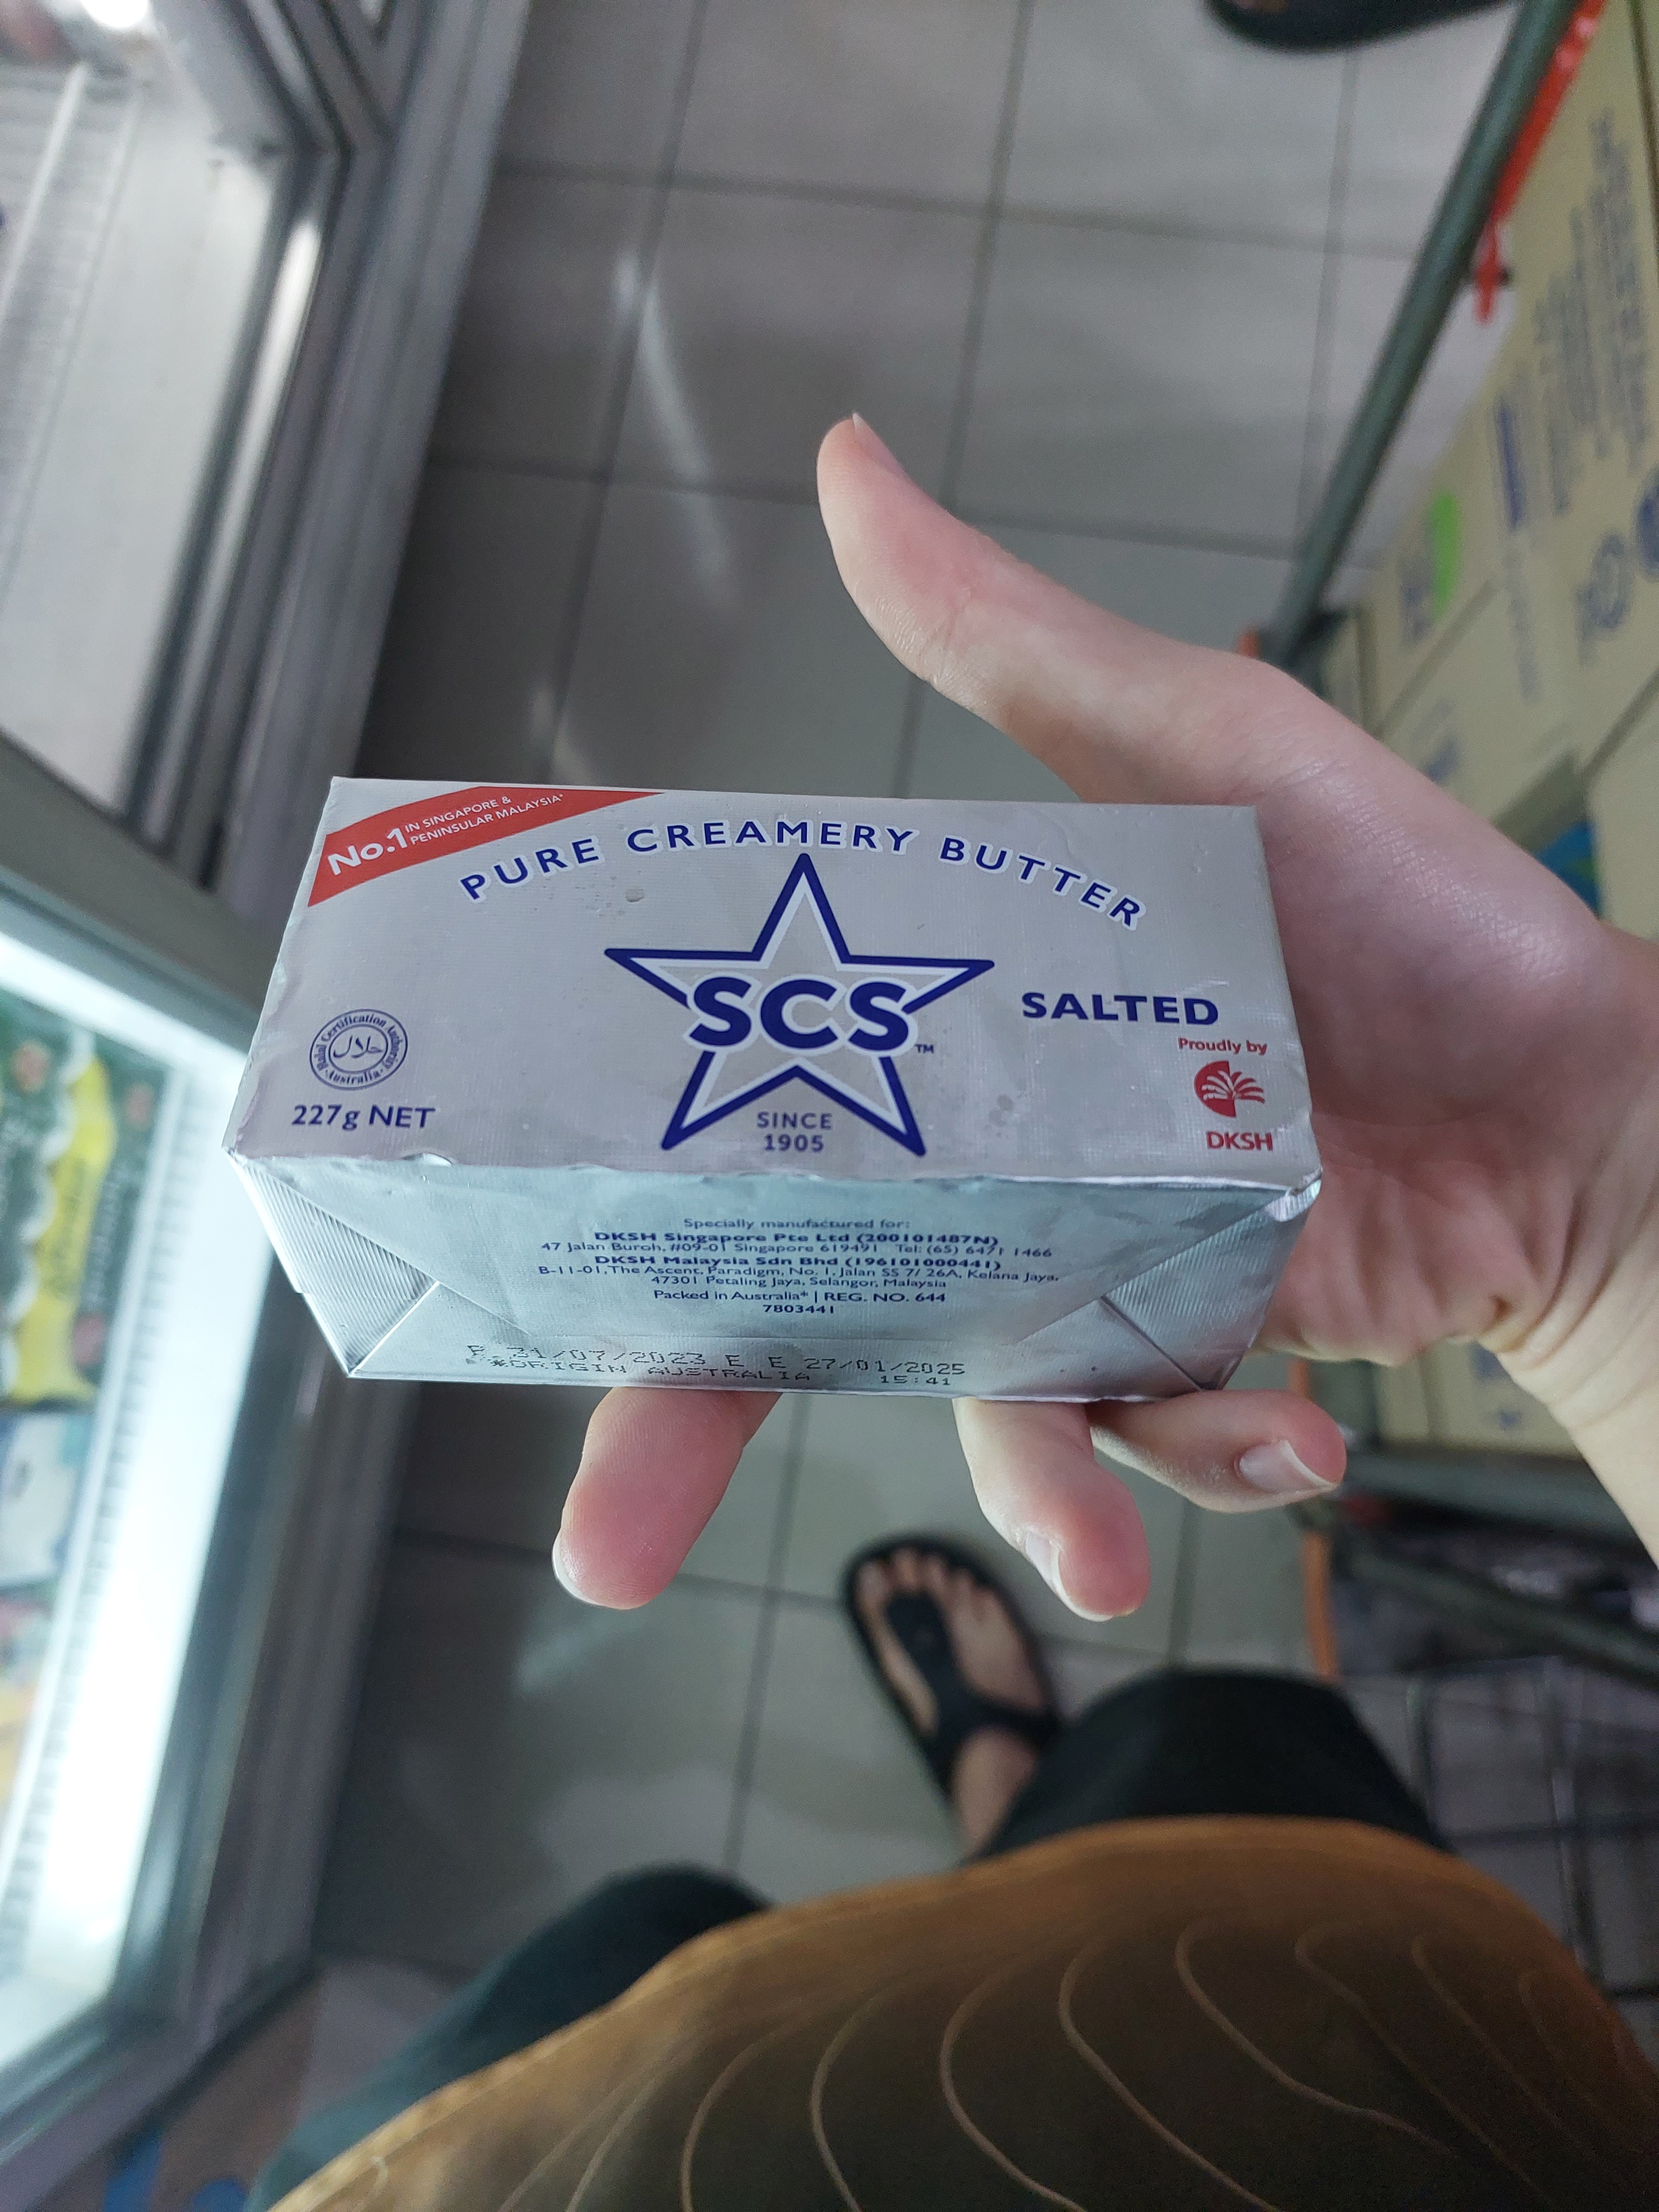butter: (227, 770, 1319, 1411)
